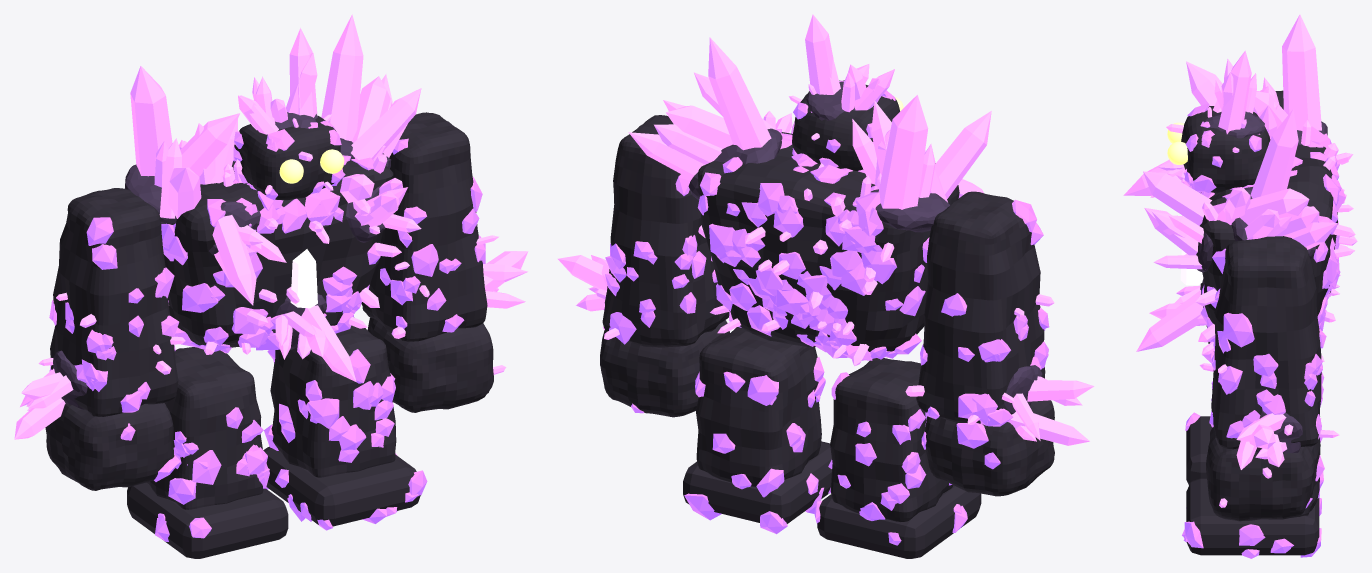
Rendered from golem.glb.
The picture shows the model from 3 angles, left to right: view 1: azimuth 30°, elevation 25°; view 2: azimuth 150°, elevation 25°; view 3: azimuth 270°, elevation 25°; orthographic projection. The views are drawn at different scales.
Parts seen in each view (by area): view 1: arm_L, arm_R, leg_L, leg_R, body, plate_2, body_ore, plate_3, leg_R_ore, arm_L_ore, head, plate_4 (+11 smaller); view 2: arm_L, arm_R, leg_R, body_ore, body, leg_L, plate_2, plate_3, arm_L_ore, leg_R_ore, plate_4, plate_0 (+6 smaller); view 3: arm_R, plate_3, plate_2, leg_R, plate_6, arm_R_ore, body, head, body_ore, plate_4, plate_1, body_speckles (+8 smaller).
Part boxes in pixels (x1=…): arm_L: x1=45, y1=188, x2=178, y2=490; arm_R: x1=361, y1=112, x2=493, y2=412; leg_L: x1=127, y1=347, x2=288, y2=558; leg_R: x1=263, y1=325, x2=420, y2=526; body: x1=164, y1=159, x2=393, y2=347; plate_2: x1=125, y1=66, x2=239, y2=224; body_ore: x1=161, y1=155, x2=380, y2=352; plate_3: x1=321, y1=14, x2=421, y2=168; leg_R_ore: x1=264, y1=349, x2=427, y2=530; arm_L_ore: x1=49, y1=217, x2=180, y2=481; head: x1=234, y1=116, x2=340, y2=200; plate_4: x1=238, y1=28, x2=317, y2=134; arm_L: x1=916, y1=191, x2=1054, y2=496; arm_R: x1=600, y1=115, x2=729, y2=417; leg_R: x1=683, y1=327, x2=831, y2=523; body_ore: x1=697, y1=129, x2=929, y2=360; body: x1=698, y1=132, x2=959, y2=351; leg_L: x1=817, y1=358, x2=981, y2=558; plate_2: x1=852, y1=95, x2=991, y2=232; plate_3: x1=628, y1=37, x2=782, y2=200; arm_L_ore: x1=920, y1=199, x2=1049, y2=469; leg_R_ore: x1=684, y1=357, x2=830, y2=534; plate_4: x1=805, y1=14, x2=894, y2=120; plate_0: x1=1004, y1=365, x2=1094, y2=445; arm_R: x1=1206, y1=236, x2=1321, y2=521; plate_3: x1=1223, y1=109, x2=1337, y2=258; plate_2: x1=1186, y1=14, x2=1327, y2=144; leg_R: x1=1186, y1=440, x2=1320, y2=555; plate_6: x1=1143, y1=171, x2=1213, y2=272; arm_R_ore: x1=1209, y1=236, x2=1326, y2=508; body: x1=1201, y1=144, x2=1337, y2=323; head: x1=1181, y1=106, x2=1270, y2=193; body_ore: x1=1191, y1=126, x2=1345, y2=352; plate_4: x1=1203, y1=50, x2=1265, y2=138; plate_1: x1=1236, y1=411, x2=1302, y2=469; body_speckles: x1=1175, y1=120, x2=1357, y2=361.
Bounding box in the file's own units: 4.87 × 4.42 × 1.98.
